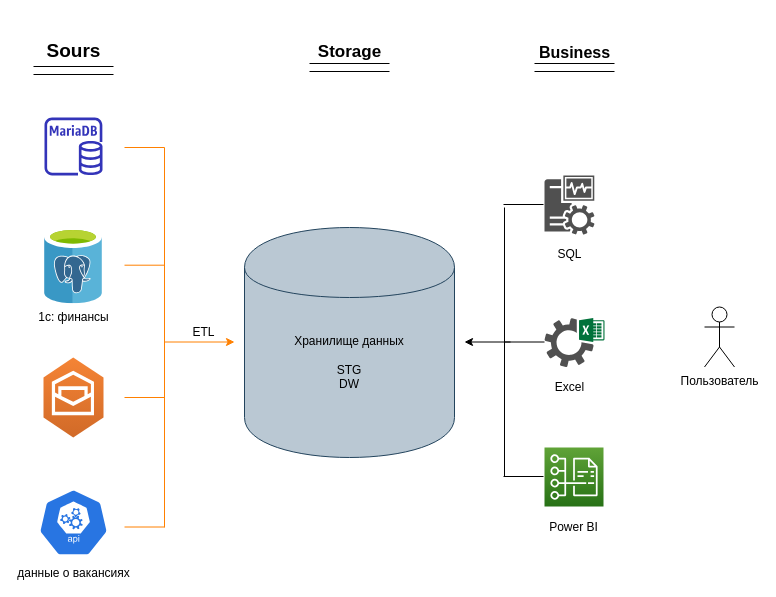
Some shapes in this 776 by 597 pixel diagram are drawn without their labels. Each missing label, with the centre of its shape:
"данные курьеров" goes at (73,146).
"отчет о доставках" goes at (73,397).
